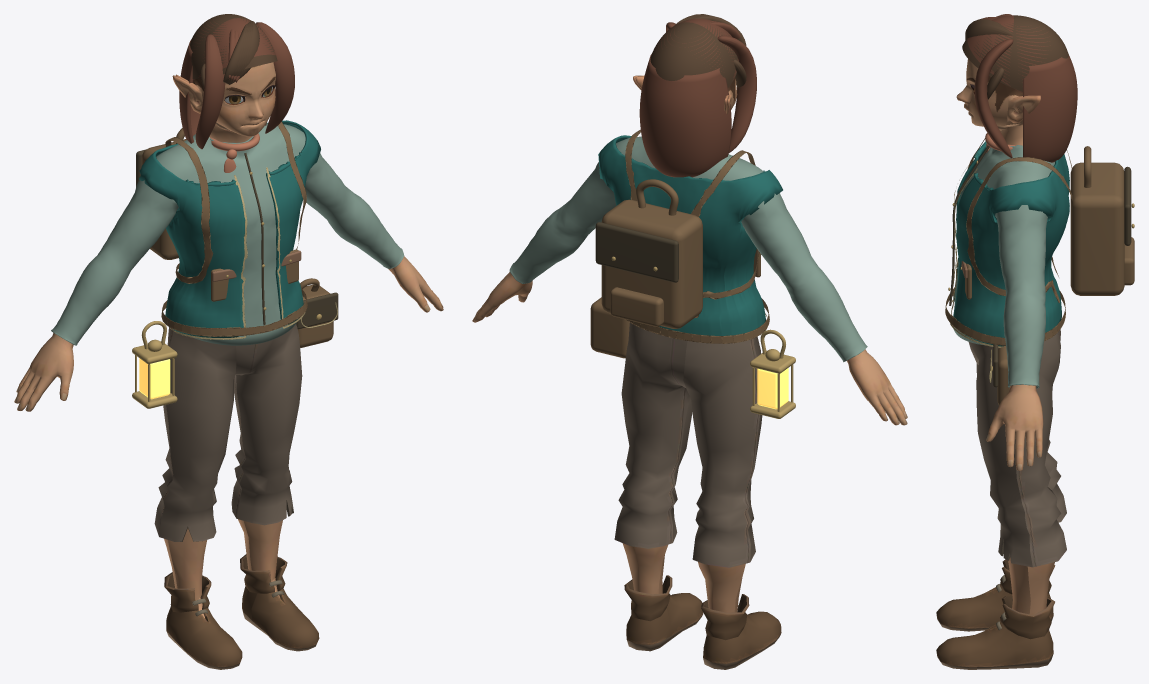
The model's file is wardrobe.glb.
3 renders of one model, left to right at view 1: azimuth 30°, elevation 25°; view 2: azimuth 150°, elevation 25°; view 3: azimuth 270°, elevation 25°, orthographic.
Visible parts, largest first — view 1: Pant_043__Mt_Lower_043 • web, Plain shirt • neutral sage • web, Explorer • open waistcoat • web, Skin__Mt_Upper_Skin • web, Lower_Skin_043__Mt_Lower_Skin • web, Face__Mt_Face • web, Mila • cheek framing lock -1 • web, Mila • cheek framing lock 1 • web, male • fitted hair crown • web, Backpack • shoulder strap -1 • web, satchel • waist strap • web, female • fitted hair crown • web (+5 smaller); view 2: Pant_043__Mt_Lower_043 • web, Plain shirt • neutral sage • web, Explorer • open waistcoat • web, Mila • smooth bob back • web, Backpack • canvas body • web, male • fitted hair crown • web, Backpack • curved flap • web, Skin__Mt_Upper_Skin • web, Lower_Skin_043__Mt_Lower_Skin • web, Mila • cheek framing lock -1 • web, Satchel • body • web, Backpack • front pocket • web (+5 smaller); view 3: Pant_043__Mt_Lower_043 • web, Explorer • open waistcoat • web, Plain shirt • neutral sage • web, Backpack • canvas body • web, Mila • smooth bob back • web, Skin__Mt_Upper_Skin • web, male • fitted hair crown • web, Lower_Skin_043__Mt_Lower_Skin • web, Mila • cheek framing lock 1 • web, female • fitted hair crown • web, Face__Mt_Face • web, Backpack • shoulder strap 1 • web (+8 smaller).
Boxes of the visible parts, x1,y1,x2,y2 form: Pant_043__Mt_Lower_043 • web: (154, 324, 319, 669); Plain shirt • neutral sage • web: (51, 123, 404, 345); Explorer • open waistcoat • web: (139, 120, 320, 337); Skin__Mt_Upper_Skin • web: (14, 124, 443, 411); Lower_Skin_043__Mt_Lower_Skin • web: (164, 519, 282, 617); Face__Mt_Face • web: (202, 62, 275, 136); Mila • cheek framing lock -1 • web: (195, 34, 225, 149); Mila • cheek framing lock 1 • web: (256, 22, 294, 133); male • fitted hair crown • web: (190, 14, 277, 78); Backpack • shoulder strap -1 • web: (165, 137, 213, 283); satchel • waist strap • web: (161, 289, 307, 336); female • fitted hair crown • web: (191, 16, 275, 80); Pant_043__Mt_Lower_043 • web: (614, 322, 781, 669); Plain shirt • neutral sage • web: (509, 136, 867, 362); Explorer • open waistcoat • web: (598, 135, 782, 335); Mila • smooth bob back • web: (639, 54, 731, 177); Backpack • canvas body • web: (601, 199, 702, 328); male • fitted hair crown • web: (650, 19, 738, 87); Backpack • curved flap • web: (595, 222, 678, 282); Skin__Mt_Upper_Skin • web: (472, 272, 907, 425); Lower_Skin_043__Mt_Lower_Skin • web: (622, 543, 745, 612); Mila • cheek framing lock -1 • web: (717, 35, 756, 152); Satchel • body • web: (590, 297, 629, 358); Backpack • front pocket • web: (610, 287, 663, 326); Pant_043__Mt_Lower_043 • web: (936, 329, 1066, 669); Explorer • open waistcoat • web: (953, 141, 1069, 346); Plain shirt • neutral sage • web: (953, 145, 1054, 388); Backpack • canvas body • web: (1070, 162, 1124, 295); Mila • smooth bob back • web: (1022, 54, 1077, 162); Skin__Mt_Upper_Skin • web: (986, 123, 1043, 470); male • fitted hair crown • web: (962, 15, 1068, 91); Lower_Skin_043__Mt_Lower_Skin • web: (1008, 557, 1054, 614); Mila • cheek framing lock 1 • web: (974, 39, 1013, 157); female • fitted hair crown • web: (967, 15, 1050, 92); Face__Mt_Face • web: (957, 59, 1008, 126); Backpack • shoulder strap 1 • web: (966, 157, 1072, 302).
Size of the model in its own units: 1.28 by 1.77 by 0.5099.
Materials: 25 (12 with a texture image).
